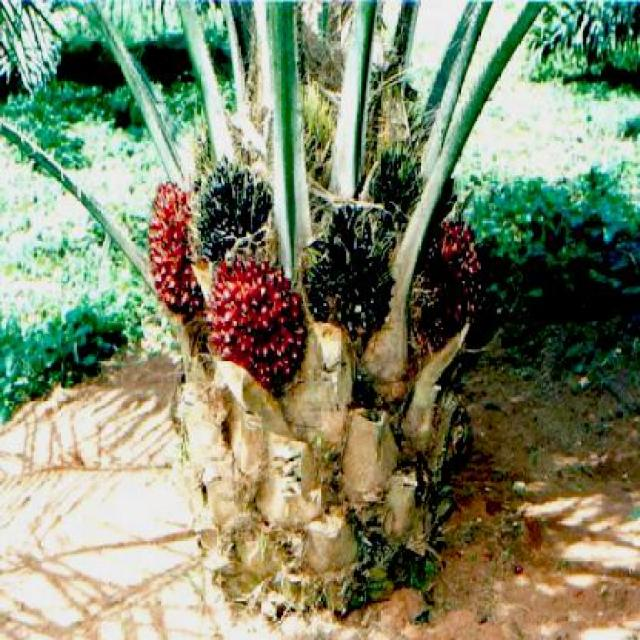palm-oil: (301, 201, 397, 338), (219, 261, 308, 388), (190, 160, 272, 268), (144, 180, 204, 318), (425, 222, 485, 338)
